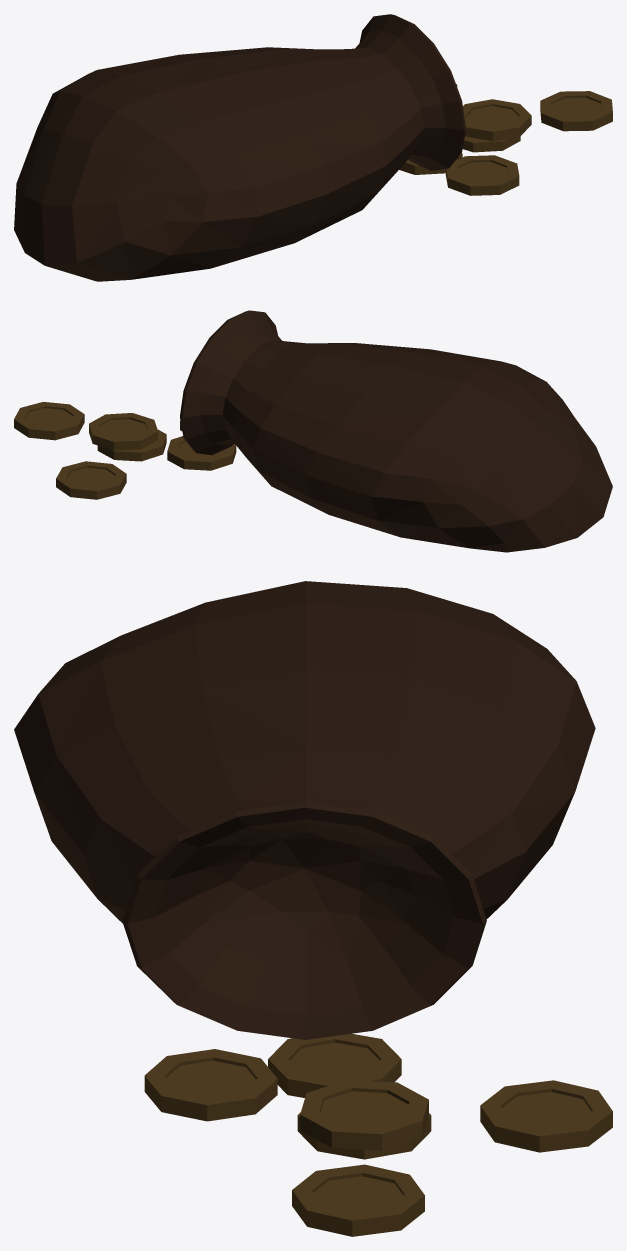
The model's file is Bag_Coins.obj.
3 renders of one model, top to bottom at view 1: azimuth 30°, elevation 25°; view 2: azimuth 150°, elevation 25°; view 3: azimuth 270°, elevation 25°, orthographic. The views are drawn at different scales.
Parts seen in each view (by area): view 1: Bag_Coins.001; view 2: Bag_Coins.001; view 3: Bag_Coins.001.
Boxes of the visible parts, x1,y1,x2,y2 form: Bag_Coins.001: [14, 14, 612, 281]; Bag_Coins.001: [14, 310, 612, 552]; Bag_Coins.001: [14, 581, 612, 1236].
Size of the model in its own units: 0.442 by 0.1146 by 0.2222.
